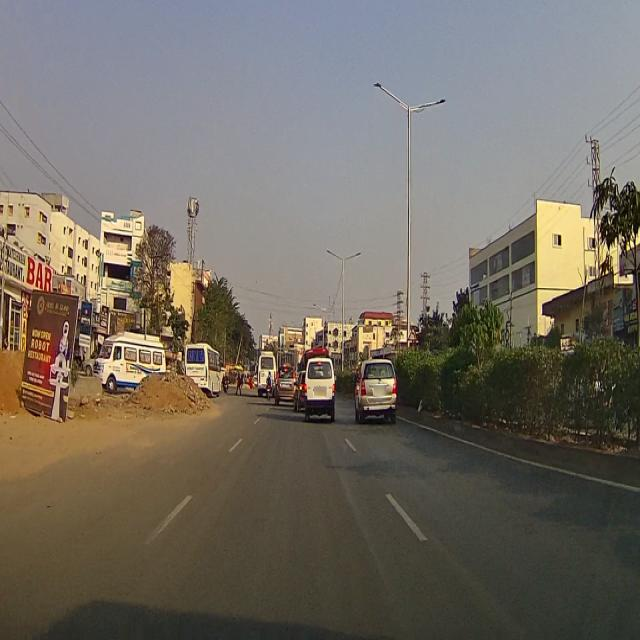left-hand-curve: (408, 330, 417, 340)
